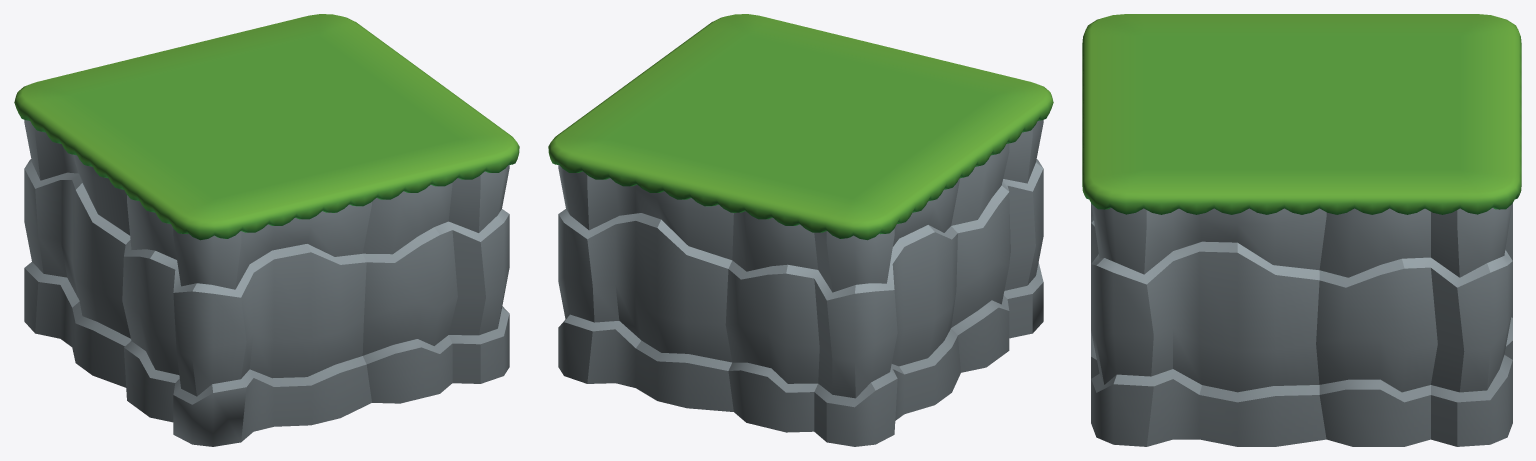
Rendered from Hill_12x12x8_Color1.gltf.
The picture shows the model from 3 angles, left to right: view 1: azimuth 30°, elevation 25°; view 2: azimuth 150°, elevation 25°; view 3: azimuth 270°, elevation 25°; orthographic projection. The views are drawn at different scales.
Visible parts, largest first — view 1: Hill_12x12x8_Color1; view 2: Hill_12x12x8_Color1; view 3: Hill_12x12x8_Color1.
Part boxes in pixels (x1,y1,x2,y2): Hill_12x12x8_Color1: (14,14,519,446); Hill_12x12x8_Color1: (548,14,1053,446); Hill_12x12x8_Color1: (1082,14,1521,446).
Bounding box in the file's own units: 12.5 × 8 × 12.5.
Materials: 1 (1 with a texture image).
